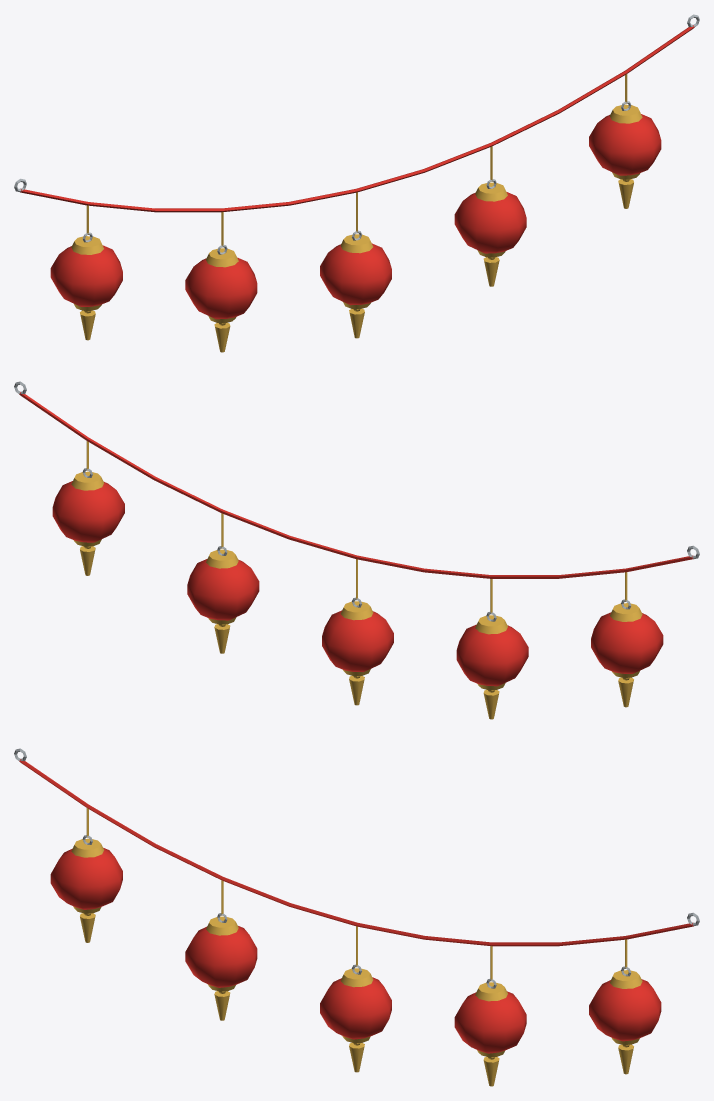
Rendered from lantern_string.glb.
The picture shows the model from 3 angles, top to bottom: view 1: azimuth 30°, elevation 25°; view 2: azimuth 150°, elevation 25°; view 3: azimuth 330°, elevation 25°; orthographic projection.
Visible parts, largest first — view 1: lantern_string; view 2: lantern_string; view 3: lantern_string.
Part boxes in pixels (x1=…): lantern_string: x1=14, y1=14, x2=699, y2=352; lantern_string: x1=14, y1=381, x2=699, y2=719; lantern_string: x1=14, y1=748, x2=699, y2=1086.
Size of the model in its own units: 3.06 by 1.03 by 0.2739.
